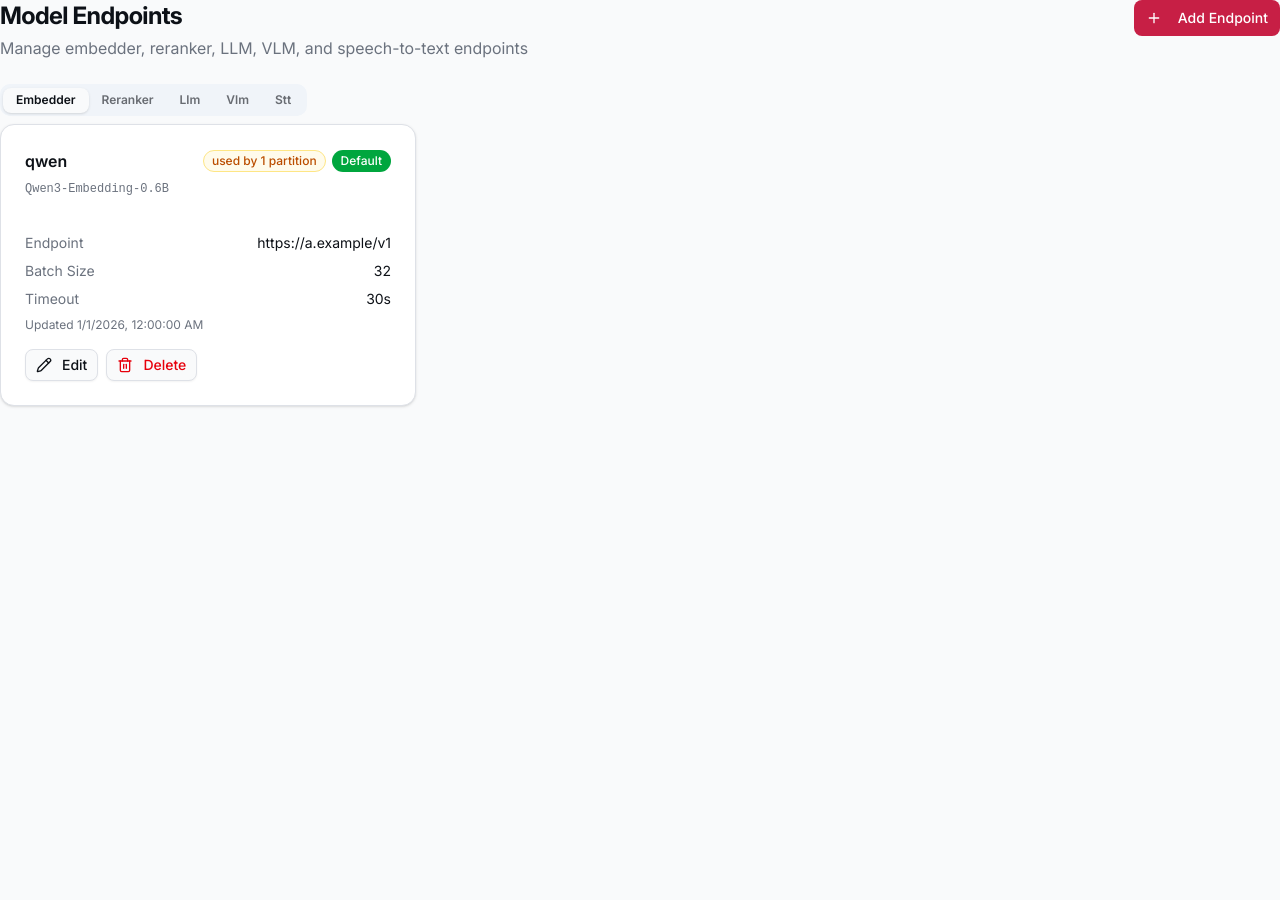
Scenario: ModelsPage embedder edit guard (#762 C) › explains the vector space before opening the edit form
This screenshot has width=1280, height=900.
Expected: the text "Qwen3-Embedding-0.6B" is shown, left=25, top=182, right=169, bottom=196
Click the button "Edit": (62, 365) left=25, top=349, right=98, bottom=381
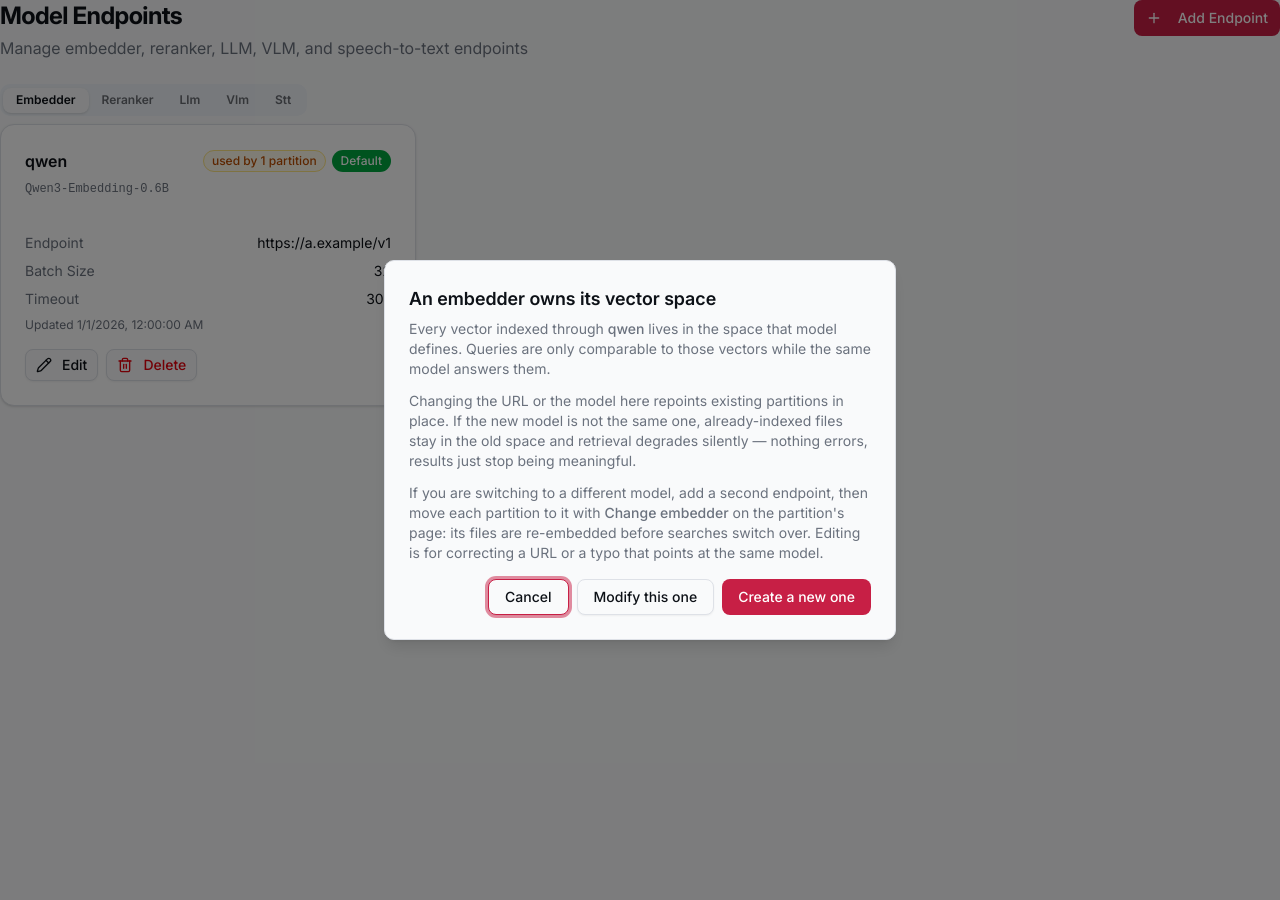
Expected: the heading "An embedder owns its vector space" is shown, left=409, top=285, right=716, bottom=313
Expected: the button "Create a new one" is shown, left=722, top=579, right=871, bottom=615
Expected: the button "Modify this one" is shown, left=576, top=579, right=714, bottom=615
